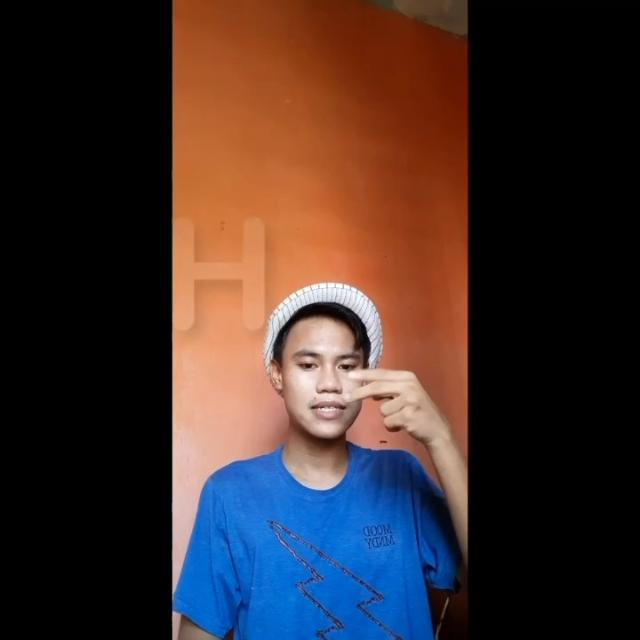H: (340, 366, 452, 454)
